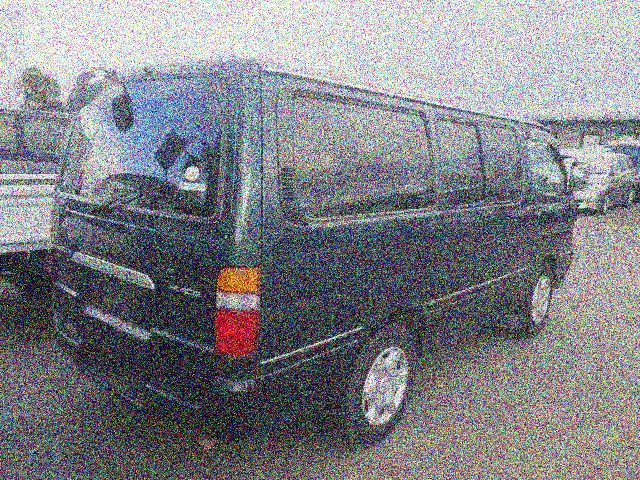van: (65, 56, 576, 436)
